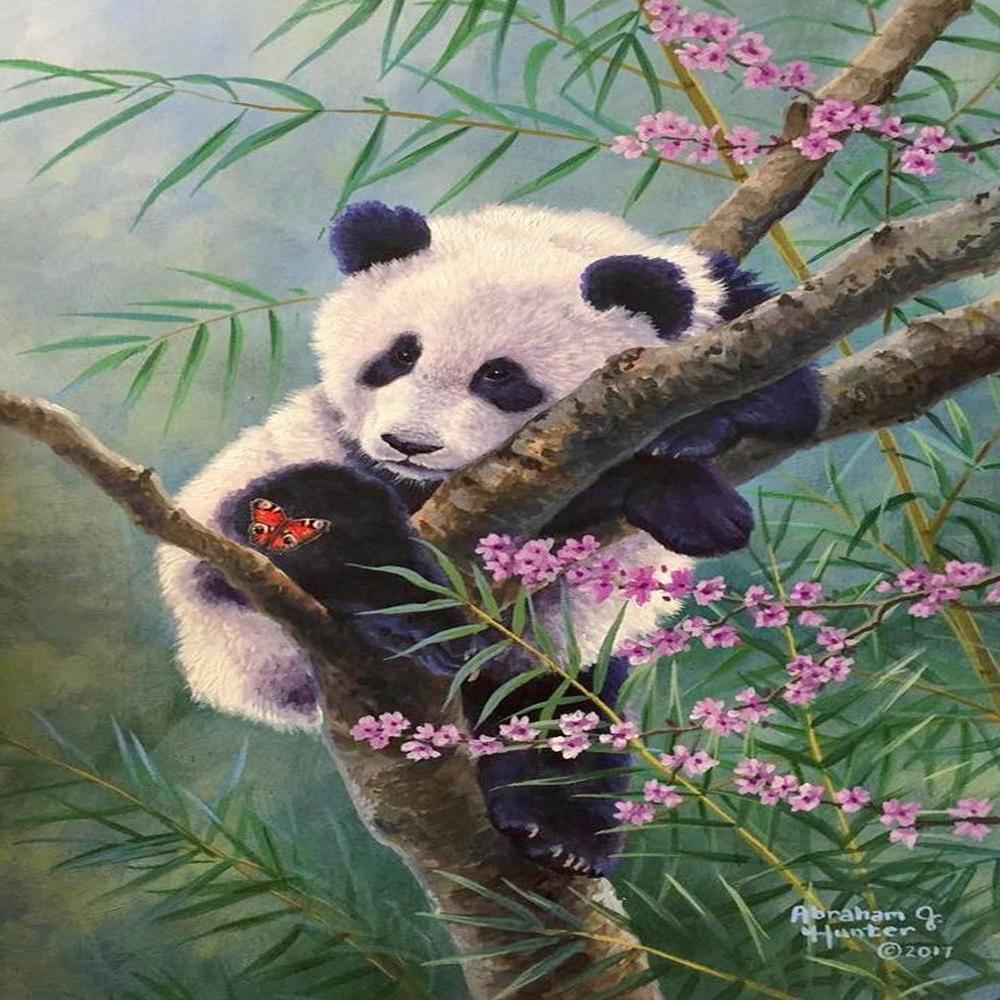panda: (148, 194, 811, 870)
